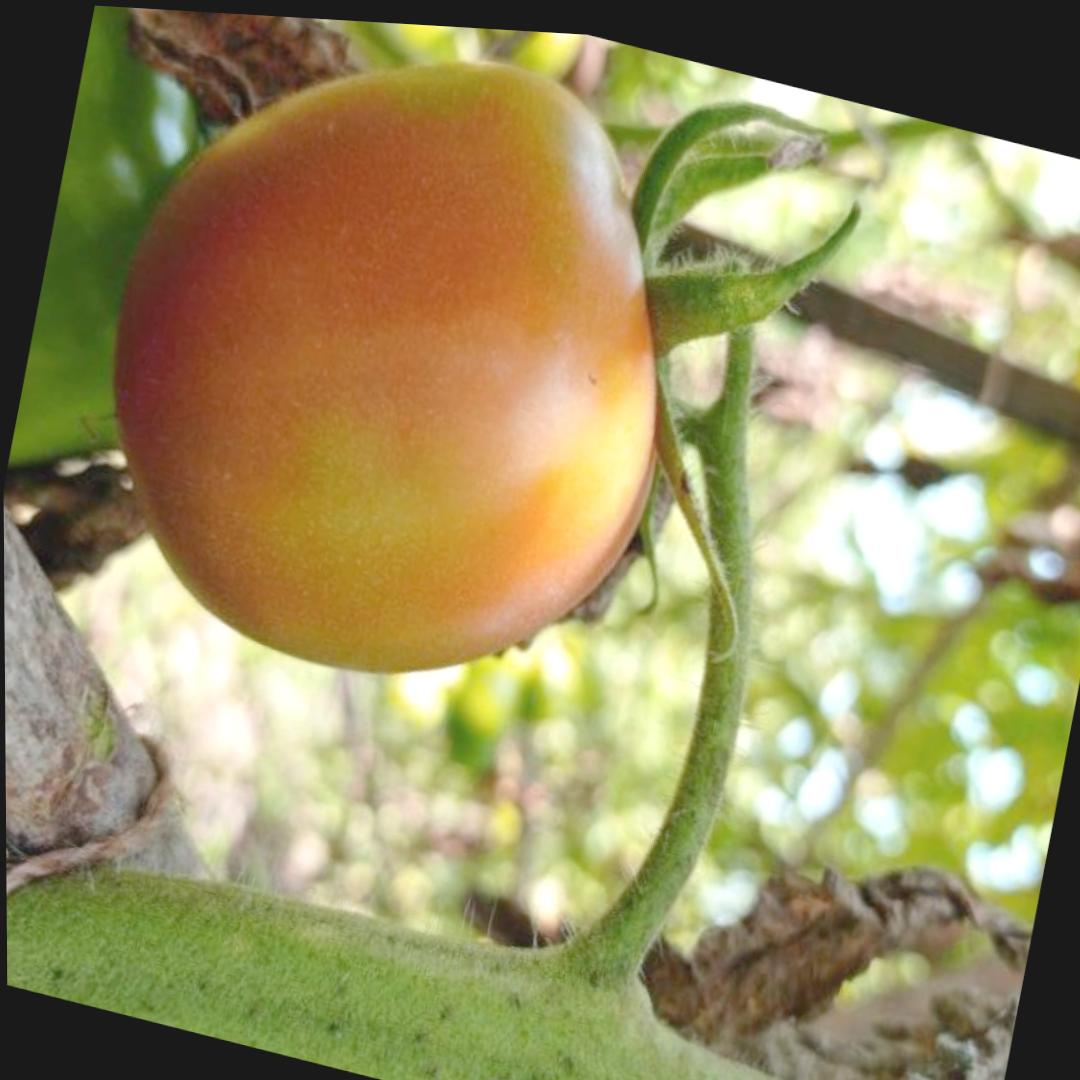setengah_matang: (59, 3, 732, 748)
